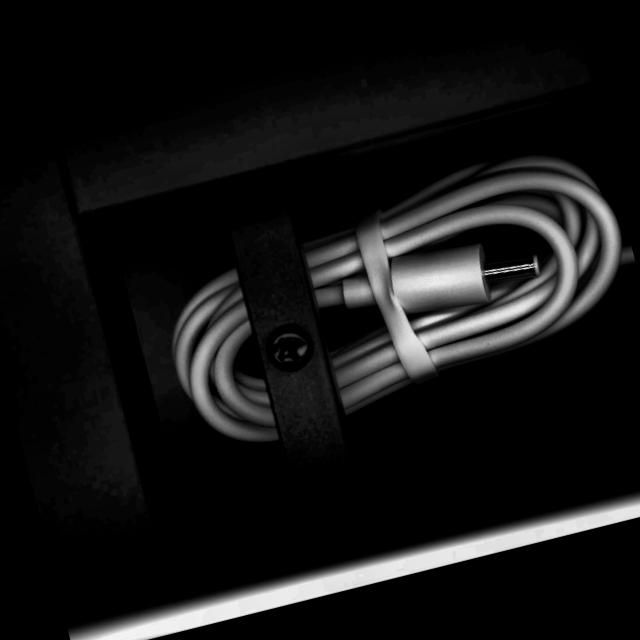Cable: (139, 126, 640, 465)
